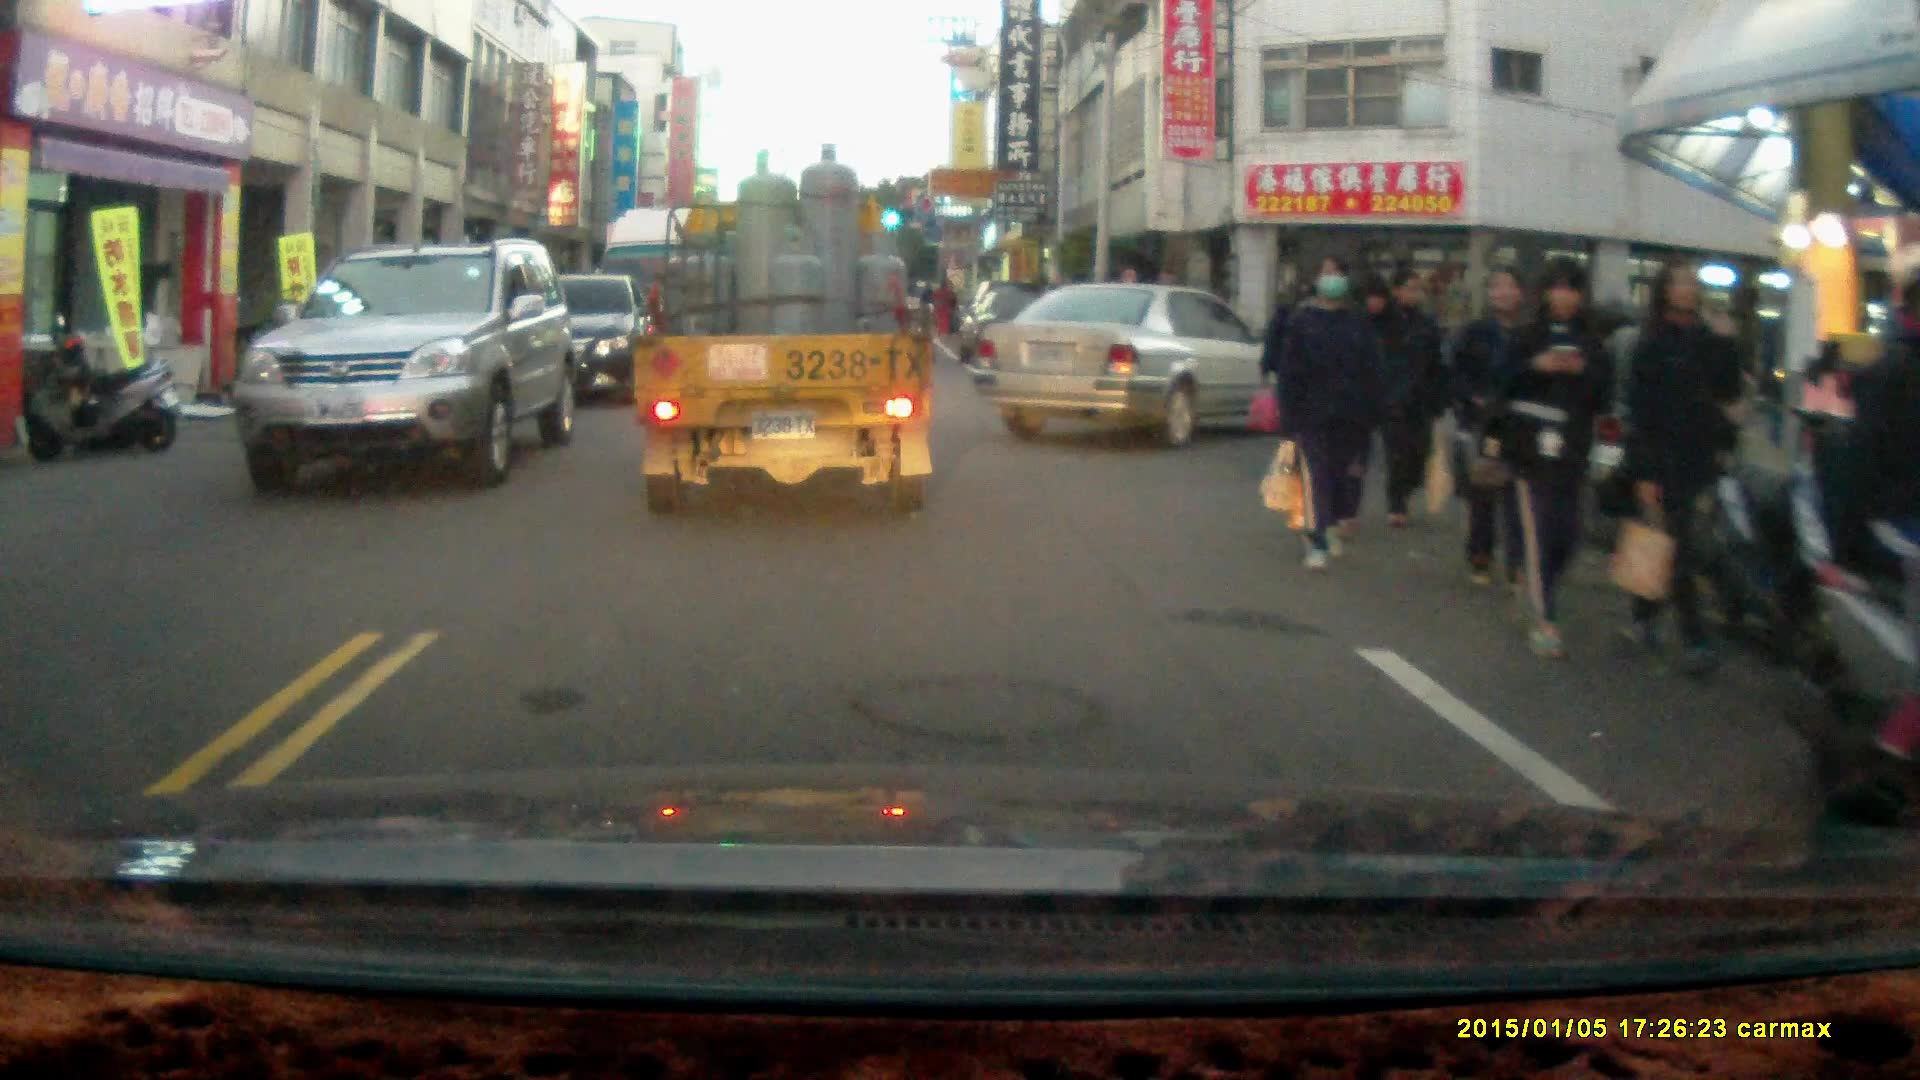pedestrian: (1624, 257, 1747, 678), (1493, 249, 1611, 658), (1276, 254, 1371, 573), (1447, 266, 1534, 591), (1368, 264, 1450, 531)
rider: (1789, 264, 1920, 835)
vehicle: (633, 146, 950, 522), (236, 241, 578, 495), (968, 282, 1317, 448), (462, 272, 662, 414)
